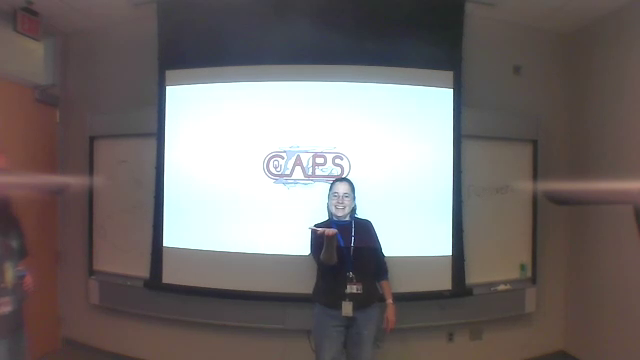land: (307, 225, 345, 244)
